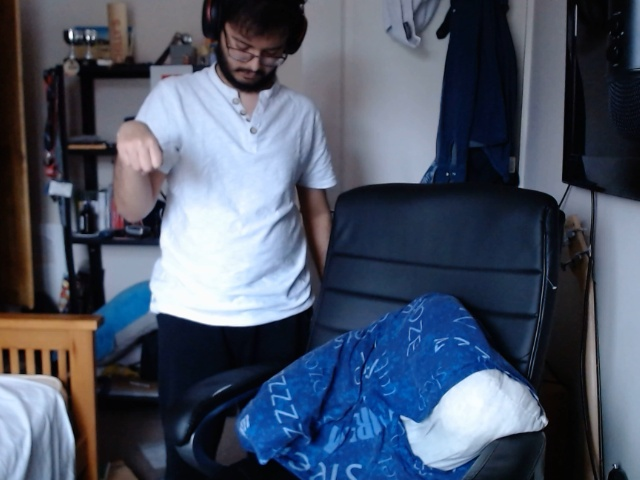Yes: (101, 113, 175, 183)
